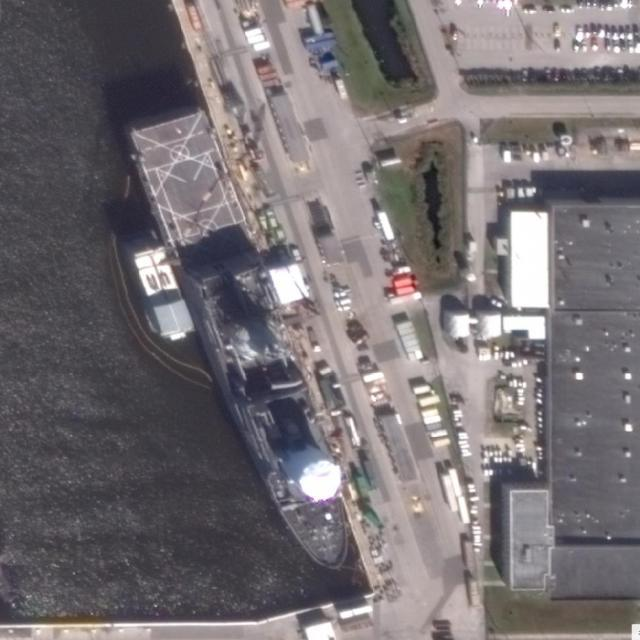Auxiliary Ships: (125, 100, 375, 587)
